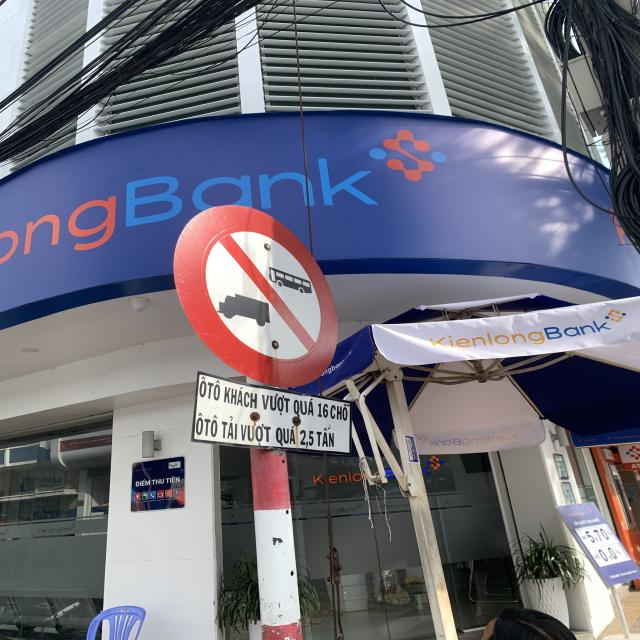Cam_XeTai_XeKhach: (172, 203, 337, 389)
